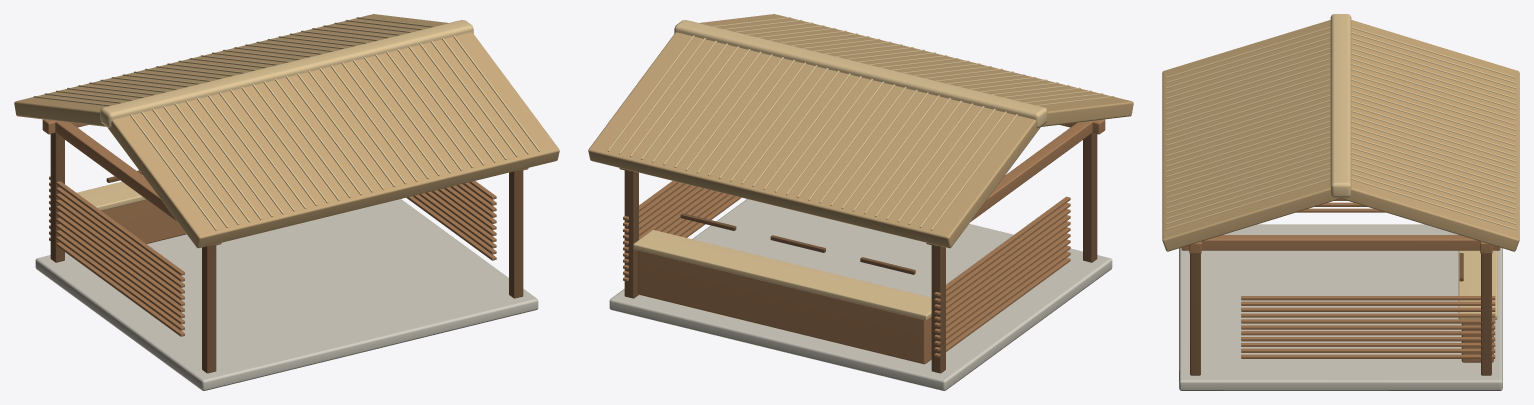
The model's file is pavillon_chaume_baie_des_rois.glb.
The picture shows the model from 3 angles, left to right: view 1: azimuth 30°, elevation 25°; view 2: azimuth 150°, elevation 25°; view 3: azimuth 270°, elevation 25°; orthographic projection. The views are drawn at different scales.
Parts seen in each view (by area): view 1: Toit_chaume_pan, Dalle_pavillon, Toit_chaume_pan.001, Faitage_chaume, Poutre_transversale, Comptoir, Poteau_bois.002, Poteau_bois, Poteau_bois.001, Plan_comptoir, Claustra_lateral.010, Claustra_lateral (+12 smaller); view 2: Toit_chaume_pan.001, Dalle_pavillon, Comptoir, Toit_chaume_pan, Plan_comptoir, Faitage_chaume, Poutre_transversale, Poteau_bois, Poteau_bois.001, Poteau_bois.003, Claustra_lateral.010, Claustra_lateral.006 (+9 smaller); view 3: Dalle_pavillon, Toit_chaume_pan, Toit_chaume_pan.001, Poutre_transversale.001, Faitage_chaume, Plan_comptoir, Poteau_bois.002, Poteau_bois.003, Claustra_lateral.017, Claustra_lateral.016, Claustra_lateral.018, Claustra_lateral.011 (+69 smaller).
Part boxes in pixels (left/top/right/bottom): Toit_chaume_pan: left=107, top=32, right=559, bottom=248; Dalle_pavillon: left=35, top=199, right=538, bottom=390; Toit_chaume_pan.001: left=14, top=14, right=448, bottom=126; Faitage_chaume: left=100, top=20, right=473, bottom=128; Poutre_transversale: left=55, top=121, right=221, bottom=246; Comptoir: left=102, top=200, right=186, bottom=243; Poteau_bois.002: left=509, top=170, right=523, bottom=298; Poteau_bois: left=202, top=245, right=216, bottom=373; Poteau_bois.001: left=50, top=133, right=64, bottom=262; Plan_comptoir: left=76, top=181, right=146, bottom=210; Claustra_lateral.010: left=49, top=176, right=184, bottom=275; Claustra_lateral: left=49, top=237, right=184, bottom=336; Toit_chaume_pan.001: left=588, top=32, right=1040, bottom=248; Dalle_pavillon: left=609, top=199, right=1112, bottom=390; Comptoir: left=638, top=250, right=931, bottom=364; Toit_chaume_pan: left=699, top=14, right=1133, bottom=126; Plan_comptoir: left=633, top=230, right=931, bottom=320; Faitage_chaume: left=674, top=20, right=1047, bottom=128; Poutre_transversale: left=926, top=121, right=1092, bottom=246; Poteau_bois: left=1083, top=133, right=1097, bottom=262; Poteau_bois.001: left=931, top=245, right=945, bottom=373; Poteau_bois.003: left=624, top=170, right=638, bottom=298; Claustra_lateral.010: left=934, top=196, right=1070, bottom=296; Claustra_lateral.006: left=934, top=221, right=1070, bottom=320; Dalle_pavillon: left=1179, top=224, right=1502, bottom=390; Toit_chaume_pan: left=1162, top=20, right=1340, bottom=251; Toit_chaume_pan.001: left=1341, top=20, right=1519, bottom=251; Poutre_transversale.001: left=1181, top=235, right=1500, bottom=250; Faitage_chaume: left=1330, top=14, right=1351, bottom=197; Plan_comptoir: left=1458, top=250, right=1497, bottom=319; Poteau_bois.002: left=1190, top=254, right=1200, bottom=375; Poteau_bois.003: left=1481, top=254, right=1491, bottom=375; Claustra_lateral.017: left=1241, top=319, right=1495, bottom=323; Claustra_lateral.016: left=1241, top=325, right=1495, bottom=329; Claustra_lateral.018: left=1241, top=313, right=1495, bottom=317; Claustra_lateral.011: left=1241, top=354, right=1495, bottom=358.
Size of the model in its own units: 8.15 by 4.76 by 7.17.
